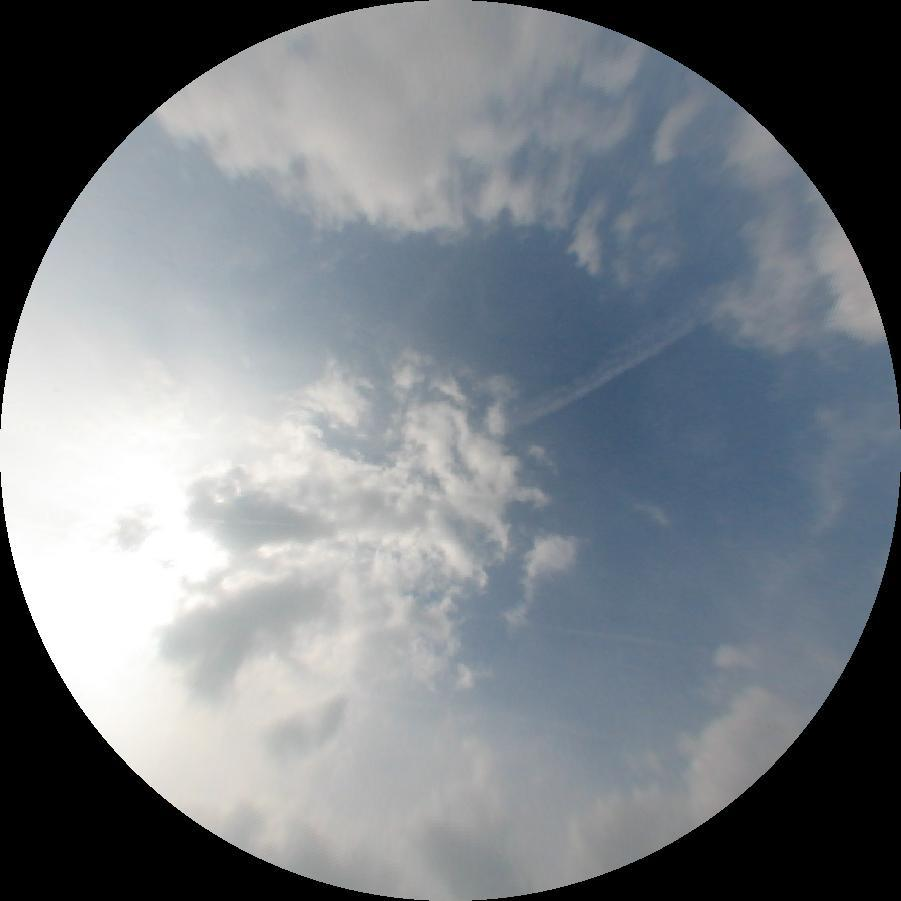contrail old: (462, 611, 713, 657)
contrail veryold: (506, 299, 704, 437)
parasite: (189, 518, 298, 526)
sun: (0, 363, 261, 715)
